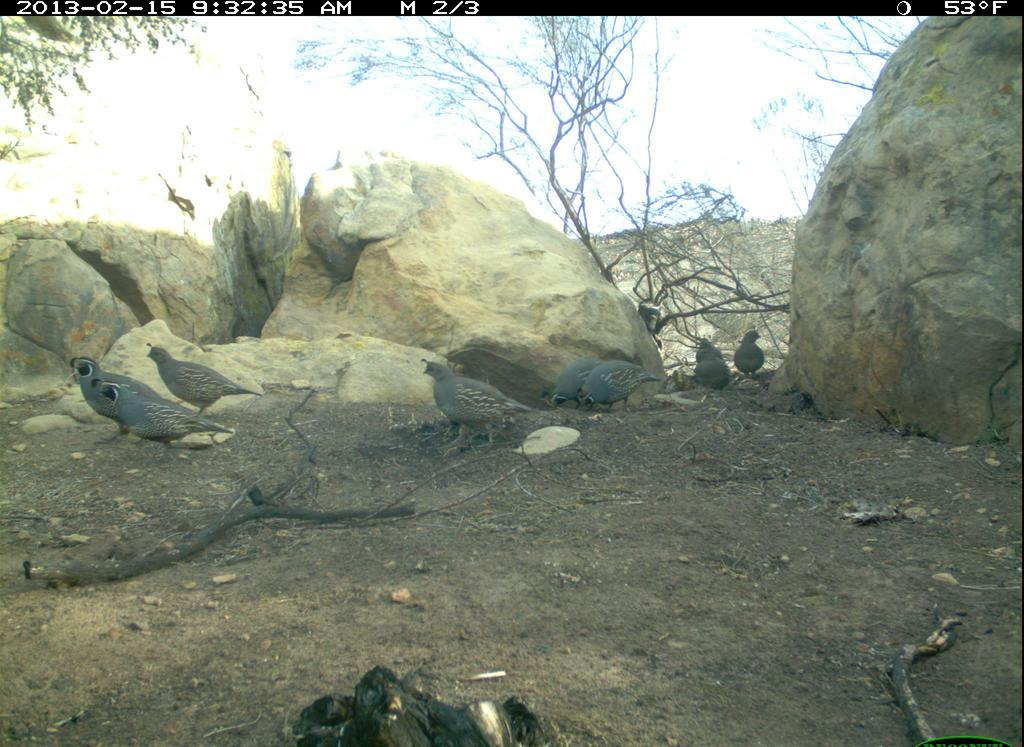bird: (419, 350, 532, 457), (65, 350, 200, 431), (90, 382, 228, 460), (150, 342, 269, 423), (568, 359, 667, 420), (693, 332, 739, 402), (731, 326, 776, 386)
